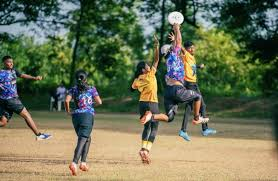disc: (166, 11, 185, 26)
